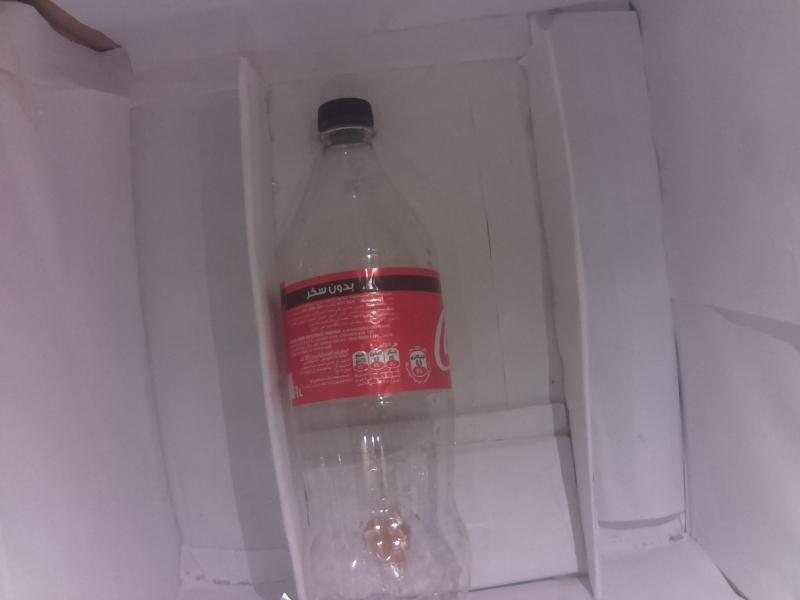BIODEGRADABLE: (254, 76, 488, 600)
